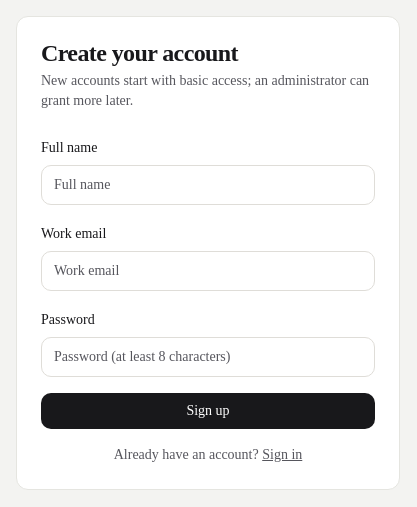
Scenario: offers recovery without another create action after committed 201 with incomplete response
Step 1. Type "Fixture" into the field with placeholder "Full name" → (208, 185), box [41,165,375,205]
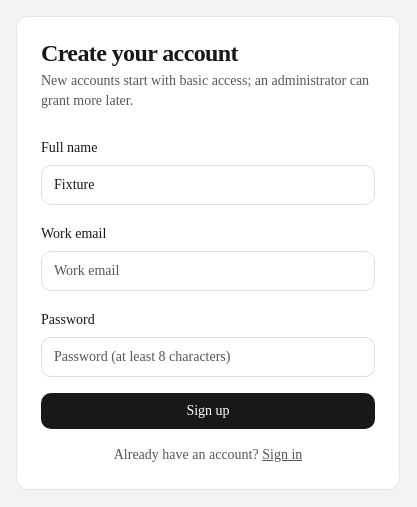
Step 2. Type "fixture@example.invalid" into the field with placeholder "Work email" → (208, 271), box [41,251,375,291]
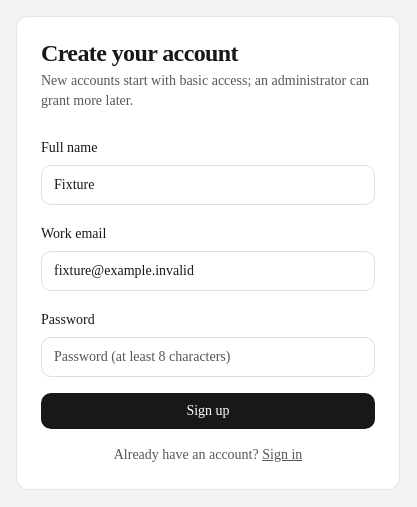
Step 3. Type "fixture-password" into the password field with placeholder "Password (at least 8 characters)" → (208, 357), box [41,337,375,377]
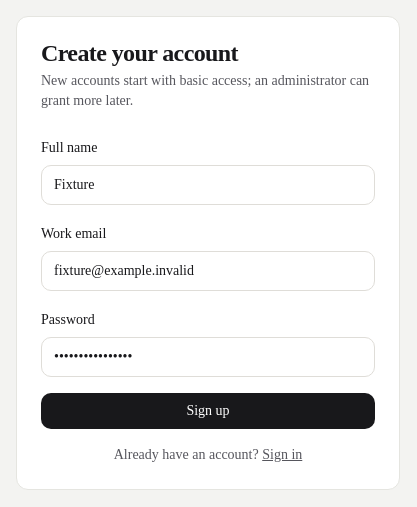
Step 4. Submit the form "Sign up", box [41,135,375,429]
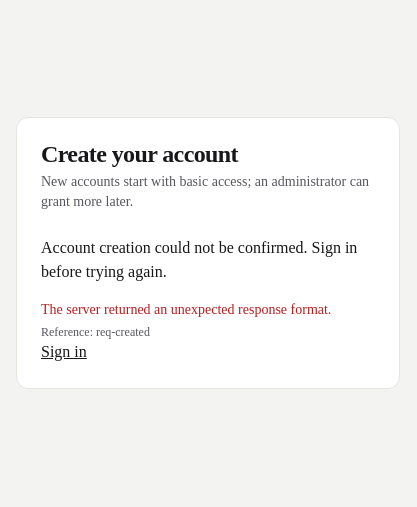
Expected: the text "Account creation could not be confirmed. Sign in before trying again." is shown, [41,236,375,284]
Expected: the message "The server returned an unexpected response format." is shown, [41,300,375,320]
Expected: the text "Reference: req-created" is shown, [41,325,150,339]
